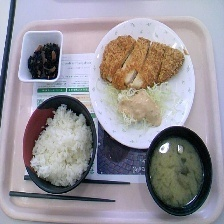sabzi: (26, 40, 62, 87)
